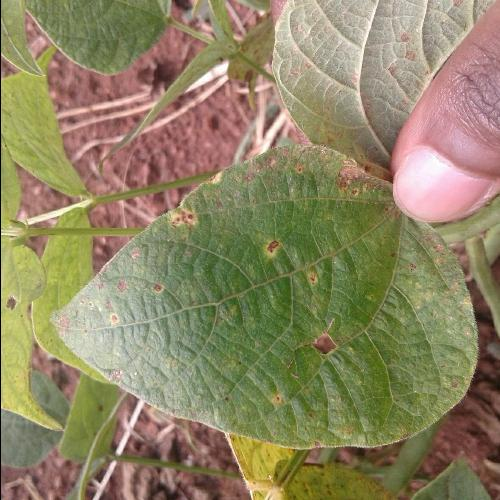hawar: (144, 187, 373, 405)
